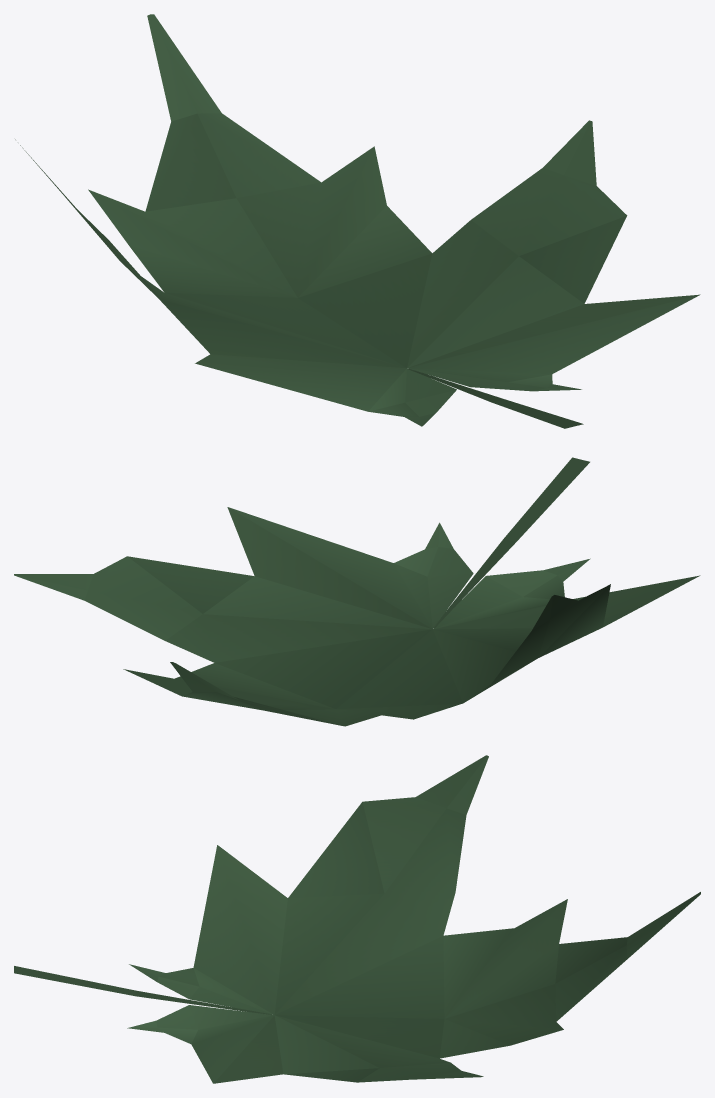
File: trees-leaves-maple-leaf_v3.glb
The picture shows the model from 3 angles, top to bottom: view 1: azimuth 30°, elevation 25°; view 2: azimuth 150°, elevation 25°; view 3: azimuth 270°, elevation 25°; orthographic projection. The views are drawn at different scales.
Visible parts, largest first — view 1: Maple Leaf_v3; view 2: Maple Leaf_v3; view 3: Maple Leaf_v3.
Part boxes in pixels (x1,y1,x2,y2): Maple Leaf_v3: (15,14,700,428); Maple Leaf_v3: (14,457,700,726); Maple Leaf_v3: (14,755,700,1083).
Size of the model in its own units: 0.1164 by 0.0393 by 0.15.
